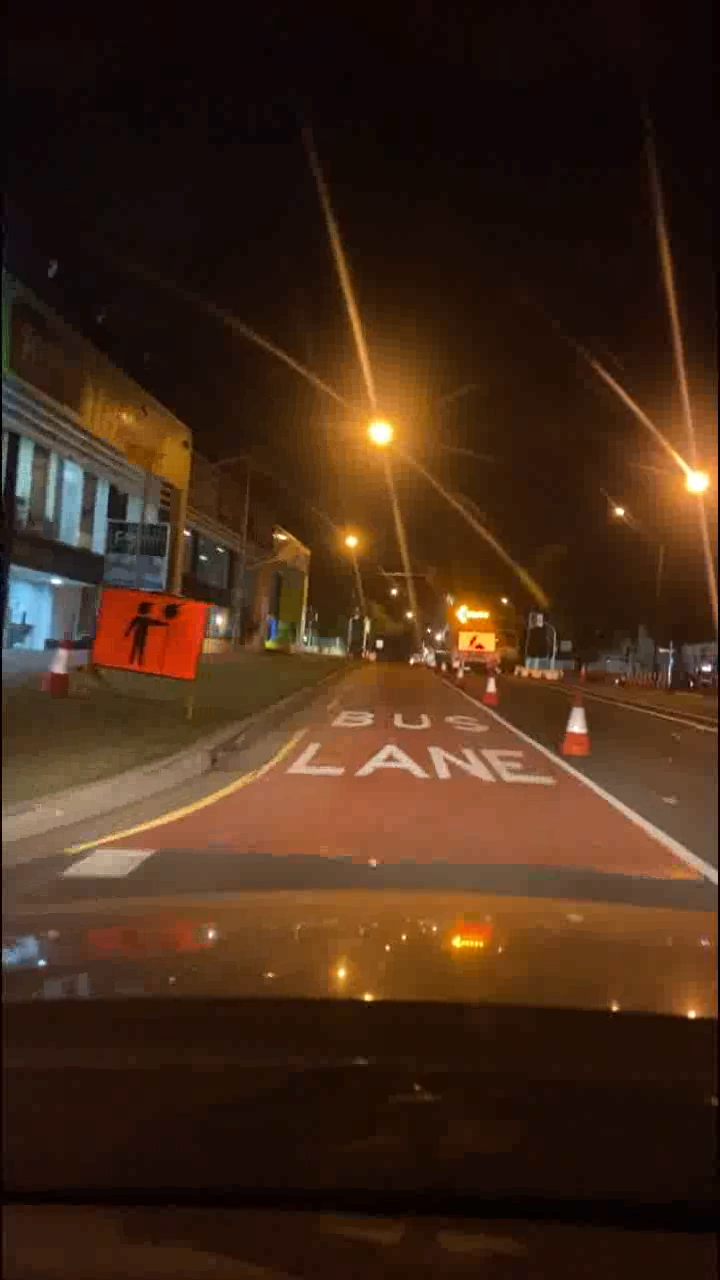prepare to stop board: (81, 588, 210, 686)
road cone: (550, 686, 602, 767), (479, 673, 500, 705)
truck: (433, 596, 525, 677)
